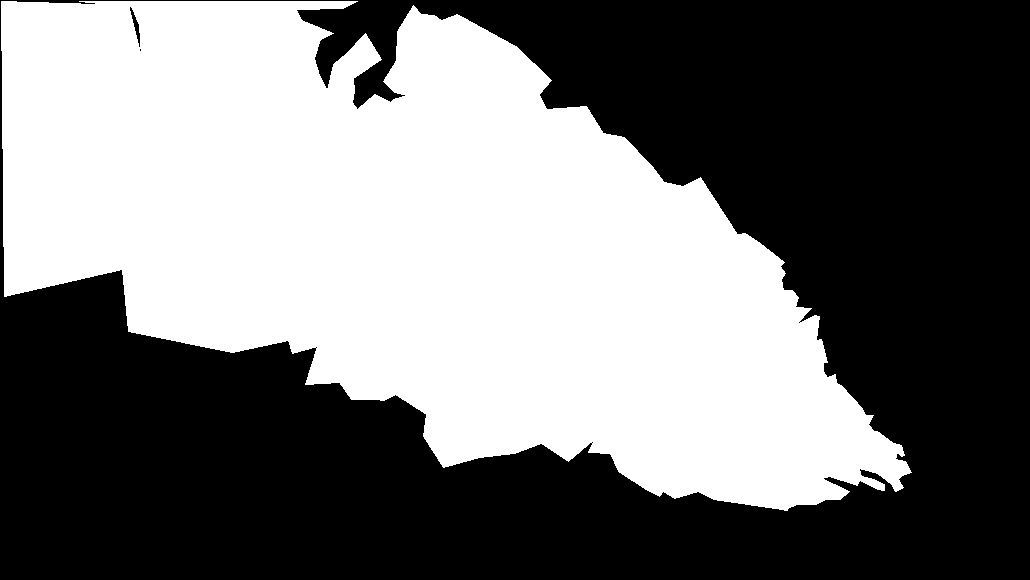Fire: (221, 45, 915, 515)
